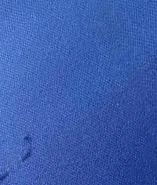knot: (18, 133, 37, 164), (1, 165, 13, 184)
